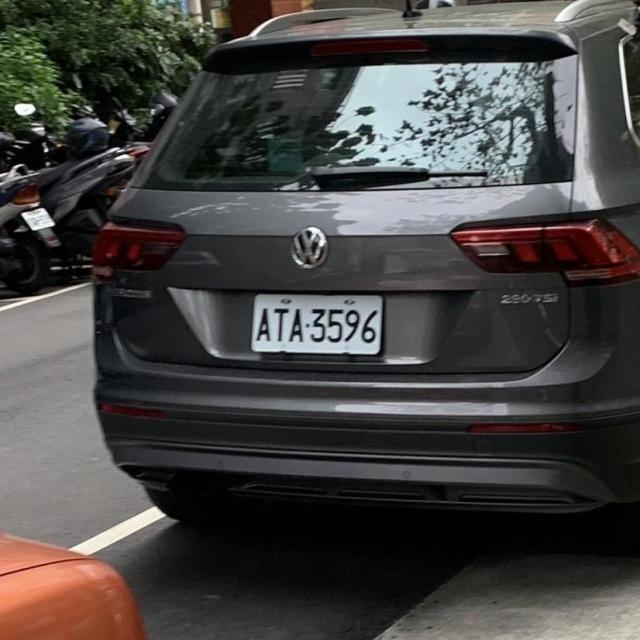W: (236, 278, 401, 371)
